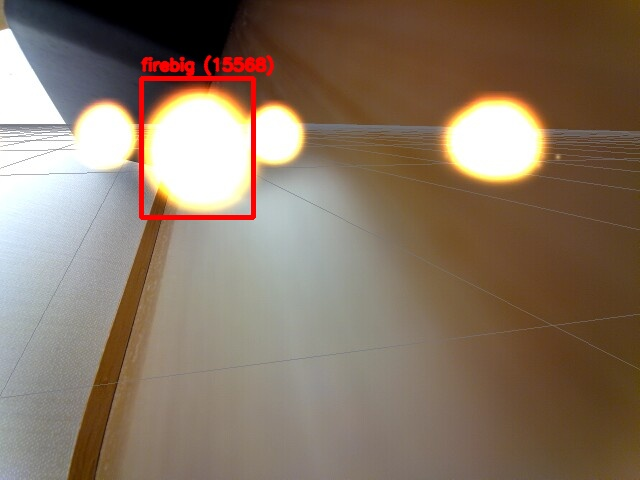firebig: (141, 78, 253, 217)
